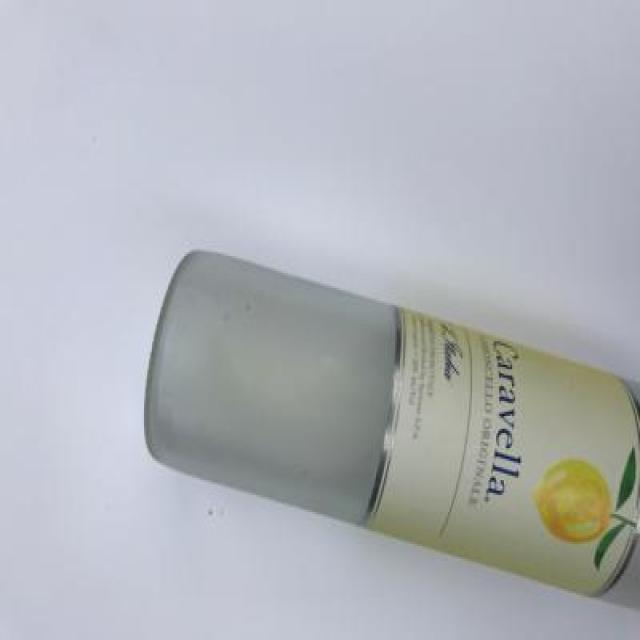glass: (141, 234, 640, 616)
